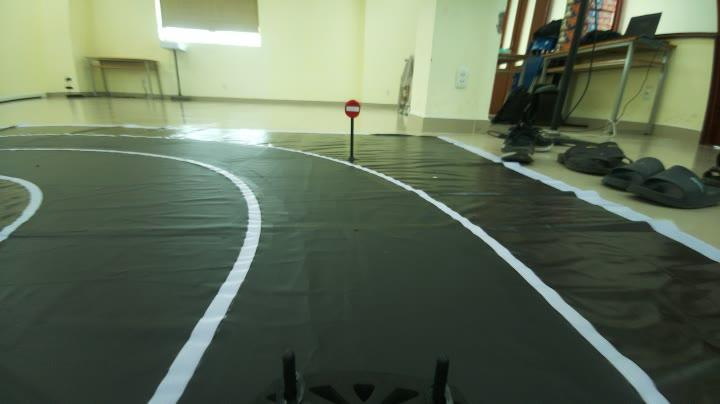no_entry: (341, 97, 368, 124)
